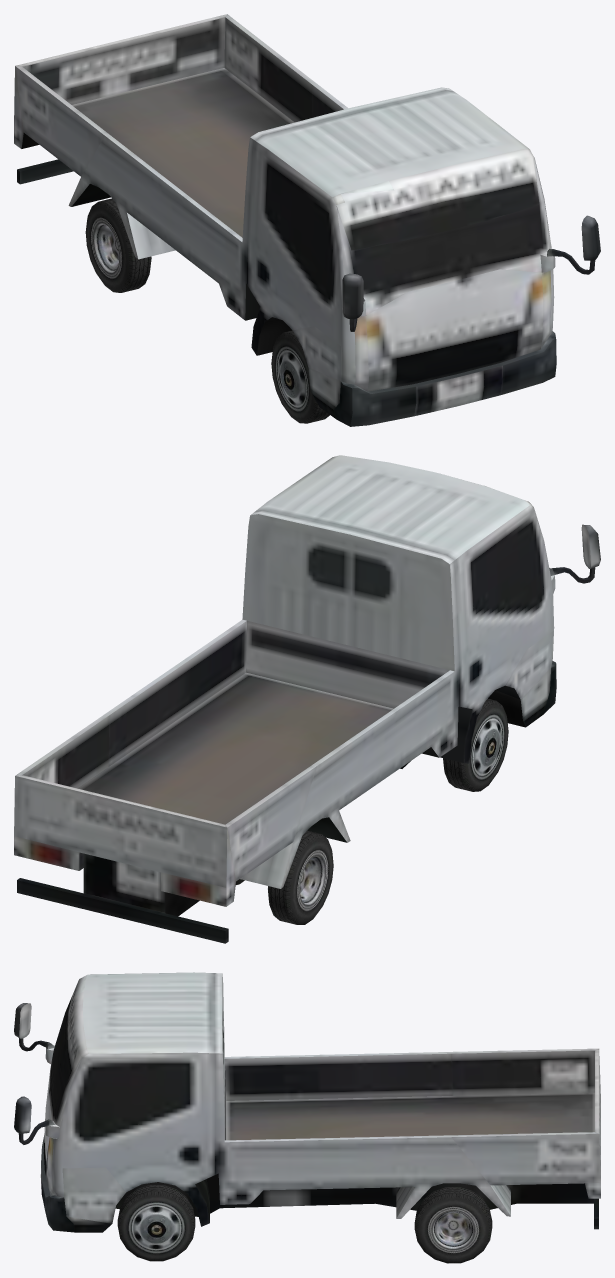
The model's file is lorry.glb.
The picture shows the model from 3 angles, top to bottom: view 1: azimuth 30°, elevation 25°; view 2: azimuth 150°, elevation 25°; view 3: azimuth 270°, elevation 25°; orthographic projection. The views are drawn at different scales.
Visible parts, largest first — view 1: Object_12, Object_8, Object_4; view 2: Object_12, Object_8, Object_4; view 3: Object_12, Object_6, Object_10.
Boxes of the visible parts, left/top/right/bottom form: Object_12: left=14, top=14, right=600, bottom=426; Object_8: left=85, top=198, right=151, bottom=292; Object_4: left=271, top=330, right=329, bottom=423; Object_12: left=14, top=455, right=600, bottom=943; Object_8: left=268, top=830, right=333, bottom=924; Object_4: left=443, top=699, right=508, bottom=791; Object_12: left=14, top=972, right=600, bottom=1232; Object_6: left=117, top=1185, right=195, bottom=1261; Object_10: left=414, top=1187, right=492, bottom=1263.
Bounding box in the file's own units: 0.512 × 0.4974 × 1.23.
2 materials, 2 textured.
